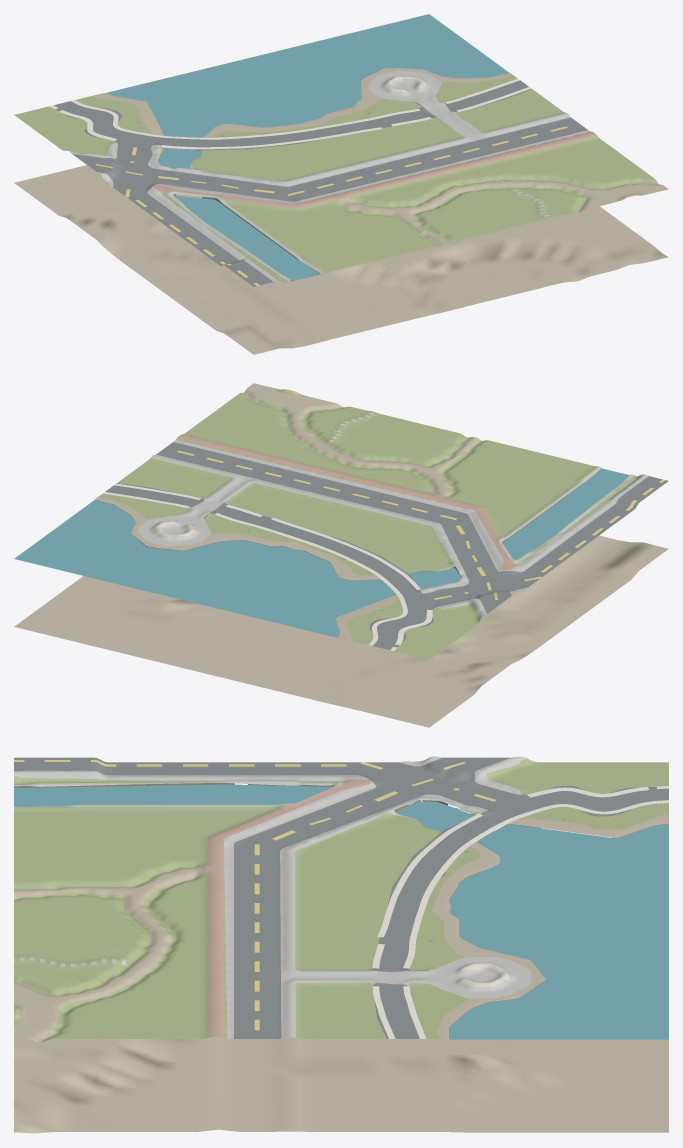
3 views of the same model, one above another, from view 1: azimuth 30°, elevation 25°; view 2: azimuth 150°, elevation 25°; view 3: azimuth 270°, elevation 25° (orthographic). The views are drawn at different scales.
Visible parts, largest first — view 1: s_-8_2__soil, s_-8_2__grass, s_-8_2__water, s_-8_2__asphalt, s_-8_2__stone_paving, s_-8_2__white_marking, s_-8_2__brick_paving, s_-8_2__yellow_marking; view 2: s_-8_2__soil, s_-8_2__grass, s_-8_2__water, s_-8_2__asphalt, s_-8_2__stone_paving, s_-8_2__brick_paving, s_-8_2__white_marking, s_-8_2__yellow_marking; view 3: s_-8_2__soil, s_-8_2__grass, s_-8_2__water, s_-8_2__asphalt, s_-8_2__stone_paving, s_-8_2__brick_paving, s_-8_2__white_marking, s_-8_2__yellow_marking, s_-8_2__shore_bank.
Boxes of the visible parts, box(x1,y1,x2,y2) form: s_-8_2__soil: box(14, 68, 668, 354); s_-8_2__grass: box(14, 75, 659, 282); s_-8_2__water: box(106, 14, 509, 281); s_-8_2__asphalt: box(54, 80, 587, 286); s_-8_2__stone_paving: box(68, 70, 590, 281); s_-8_2__white_marking: box(50, 78, 531, 149); s_-8_2__brick_paving: box(153, 131, 597, 209); s_-8_2__yellow_marking: box(83, 126, 567, 285); s_-8_2__soil: box(14, 383, 668, 727); s_-8_2__grass: box(98, 388, 640, 659); s_-8_2__water: box(14, 468, 629, 637); s_-8_2__asphalt: box(105, 442, 668, 649); s_-8_2__stone_paving: box(138, 412, 648, 618); s_-8_2__brick_paving: box(176, 434, 517, 570); s_-8_2__white_marking: box(103, 483, 432, 650); s_-8_2__yellow_marking: box(177, 450, 665, 605); s_-8_2__soil: box(14, 814, 668, 1133); s_-8_2__grass: box(14, 758, 668, 1042); s_-8_2__water: box(14, 784, 668, 1039); s_-8_2__asphalt: box(14, 757, 668, 1038); s_-8_2__stone_paving: box(14, 756, 530, 1038); s_-8_2__brick_paving: box(208, 779, 370, 1038); s_-8_2__white_marking: box(372, 786, 668, 1038); s_-8_2__yellow_marking: box(14, 757, 496, 1030); s_-8_2__shore_bank: box(14, 783, 668, 1027).
Size of the model in its own units: 128 by 22.14 by 128.
